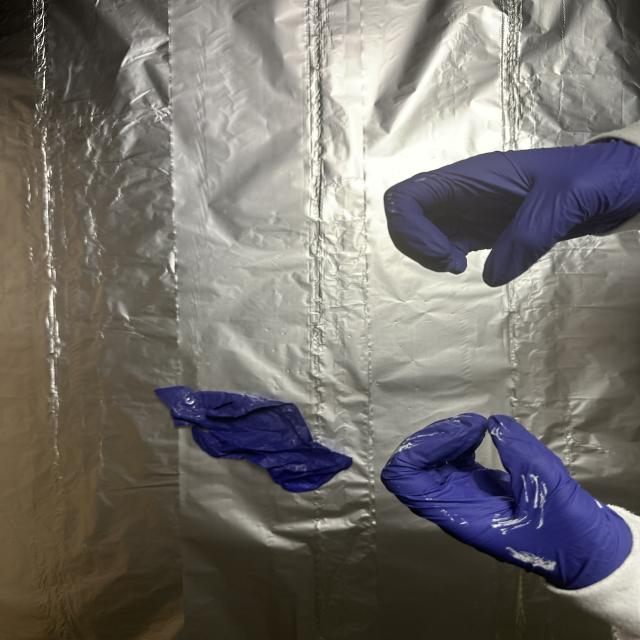gloves_contaminated: (382, 414, 631, 594), (384, 134, 640, 286)
